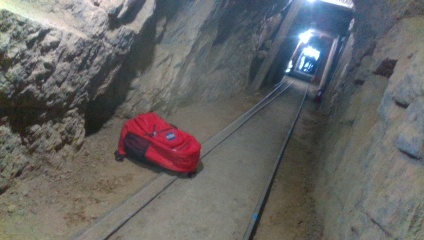backpack: (112, 111, 201, 179)
fire_extinguisher: (312, 87, 324, 101)
manikin: (284, 53, 299, 82)
